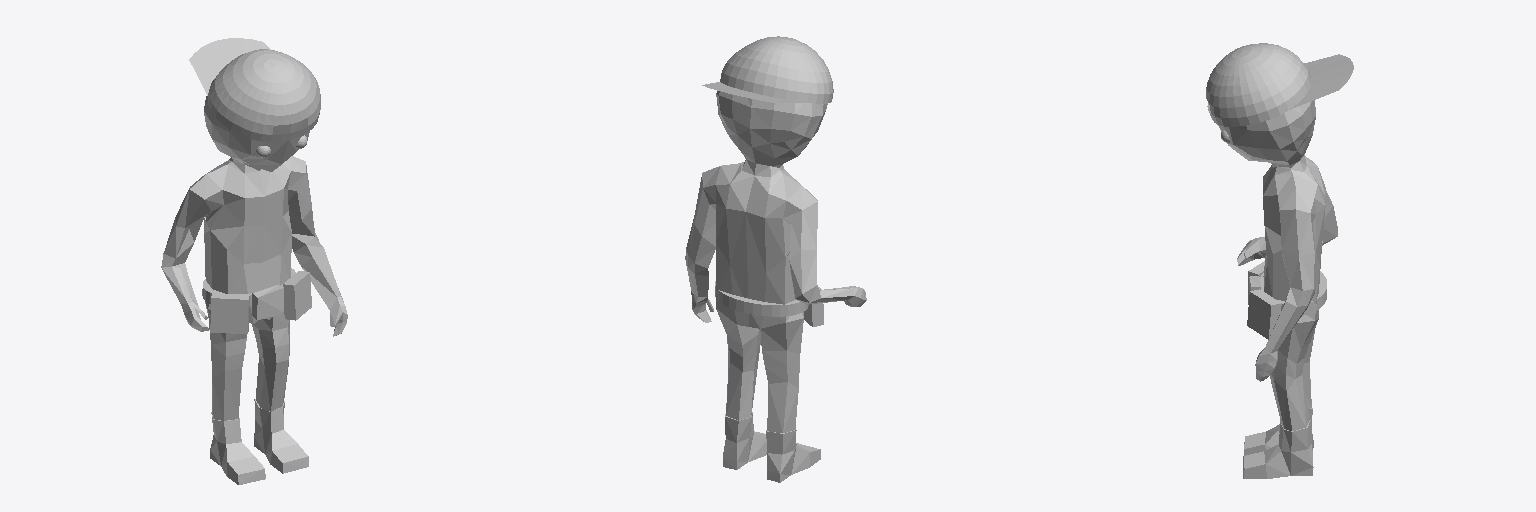
File: Main_Character_Pickup_Paint_4.obj
3 renders of one model, left to right at view 1: azimuth 30°, elevation 25°; view 2: azimuth 150°, elevation 25°; view 3: azimuth 270°, elevation 25°, orthographic.
Visible parts, largest first — view 1: Main_Character_Test.003_Main_Character_Test.004; view 2: Main_Character_Test.003_Main_Character_Test.004; view 3: Main_Character_Test.003_Main_Character_Test.004.
Boxes of the visible parts, x1=… form: Main_Character_Test.003_Main_Character_Test.004: x1=161, y1=38, x2=347, y2=484; Main_Character_Test.003_Main_Character_Test.004: x1=685, y1=36, x2=866, y2=482; Main_Character_Test.003_Main_Character_Test.004: x1=1206, y1=43, x2=1353, y2=478.
Bounding box in the file's own units: 1.63 × 3.93 × 1.27.